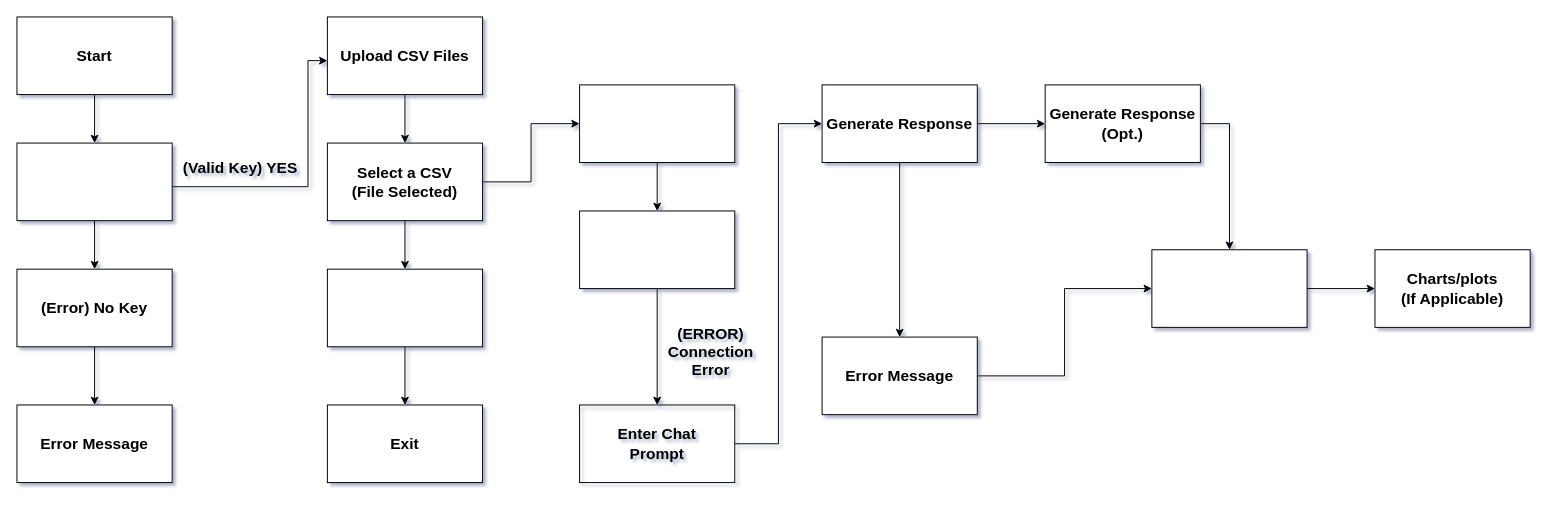
Some shapes in this 1553 by 505 pixel diagram are drawn without their labels. The shapes that lost their labels are listed below. From the top down, each one's centre as x and y in pixels, then its label:
pixel 657 123: Display Data
pixel 94 181: Check API Key
pixel 657 249: Chat Area
pixel 404 307: (No Selection)
pixel 1229 288: Display Response
